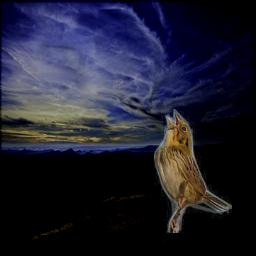Sparrow: (154, 109, 232, 233)
